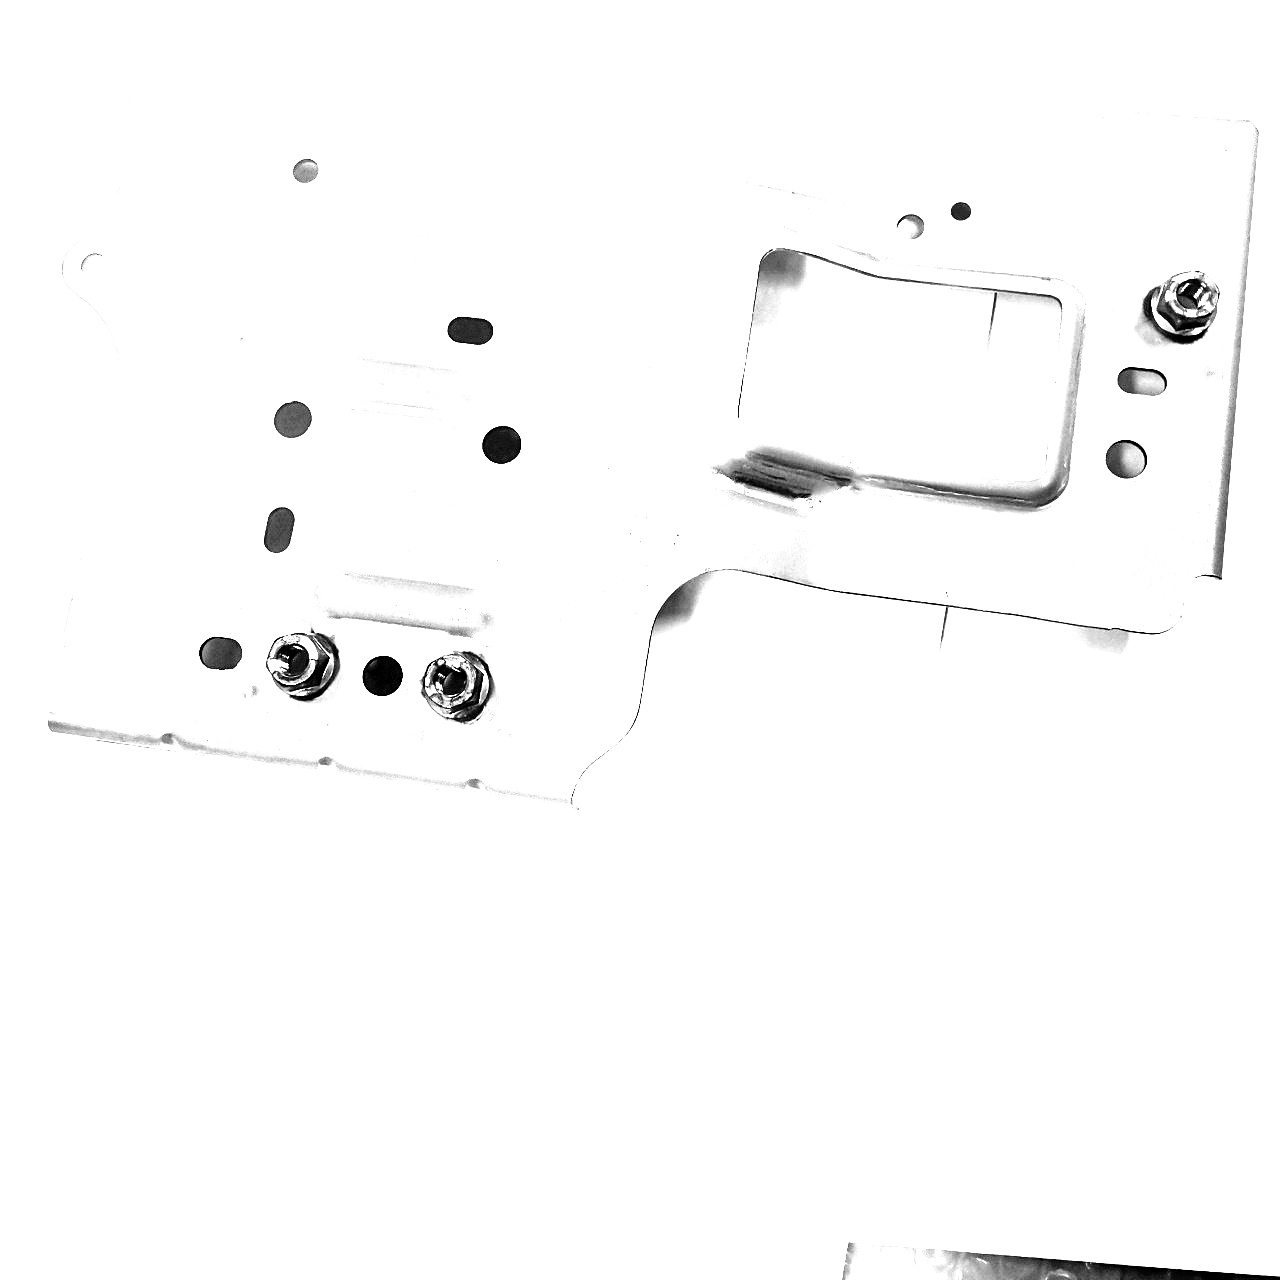dog: (263, 624, 346, 704), (416, 646, 498, 726), (1142, 268, 1224, 346)
